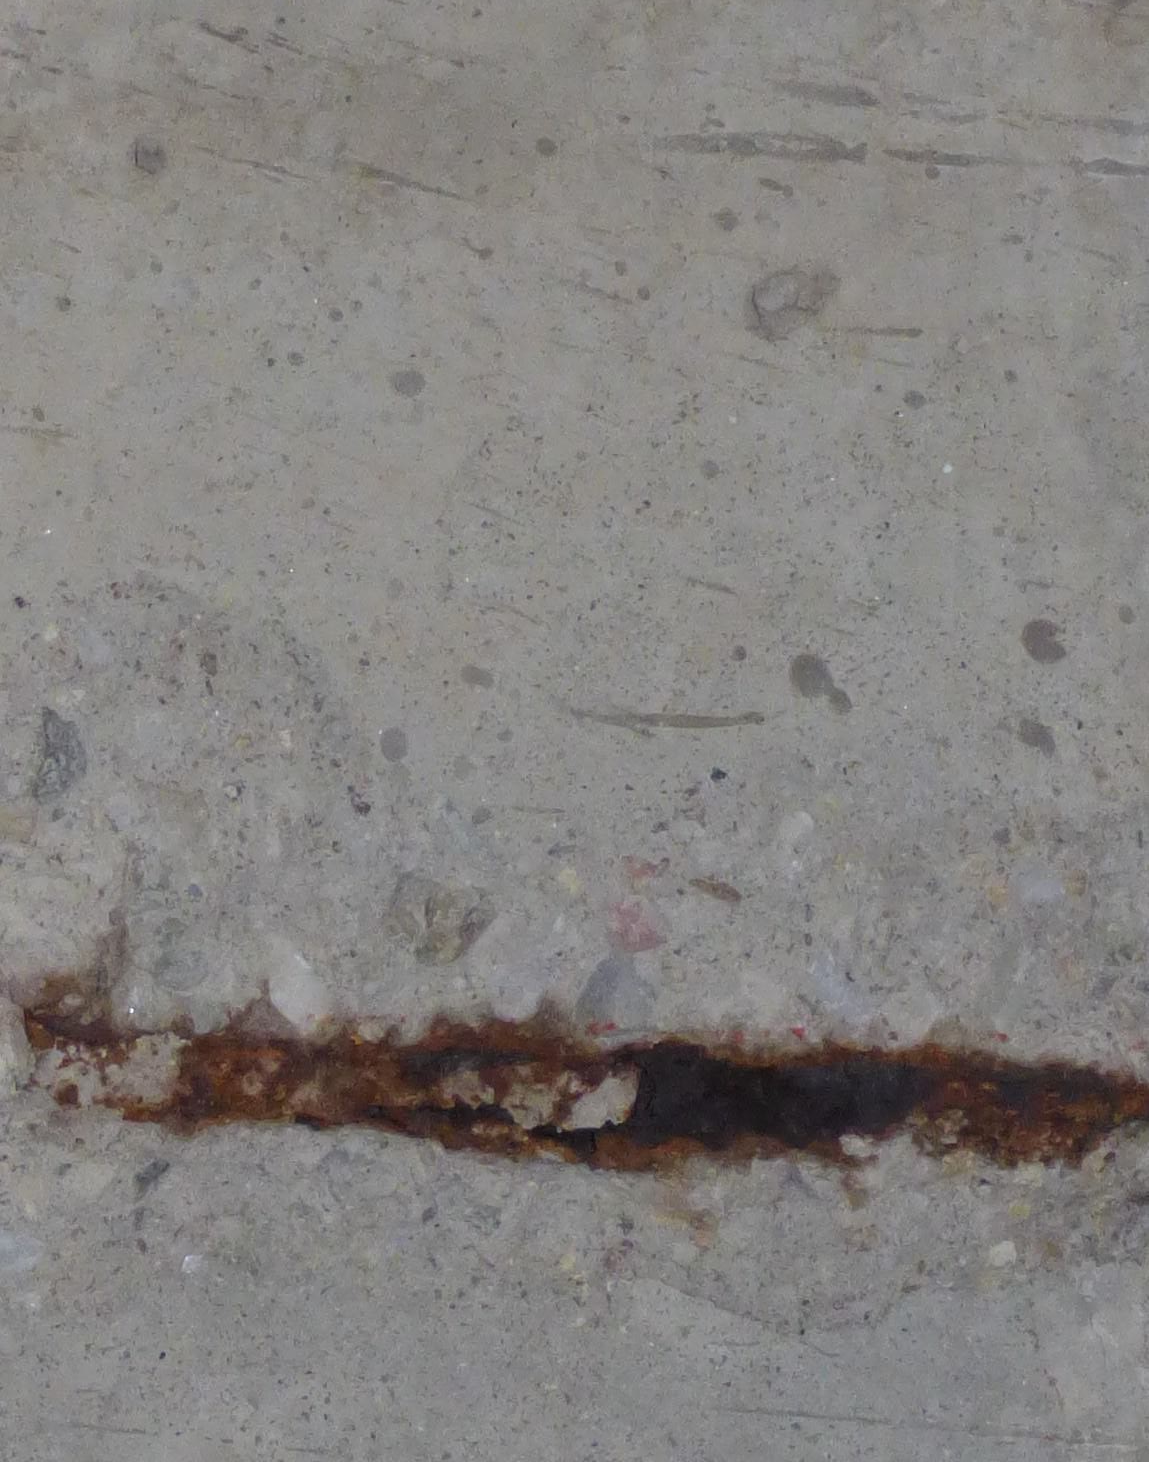Exposed reinforcement: (1, 996, 1149, 1174)
